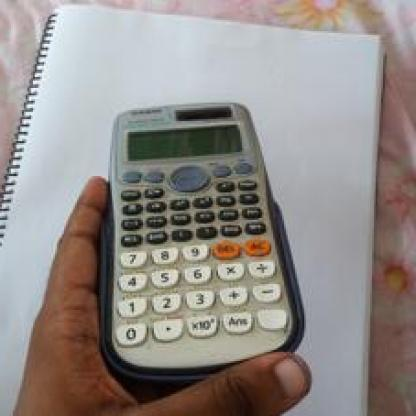calculator: (111, 100, 296, 378)
